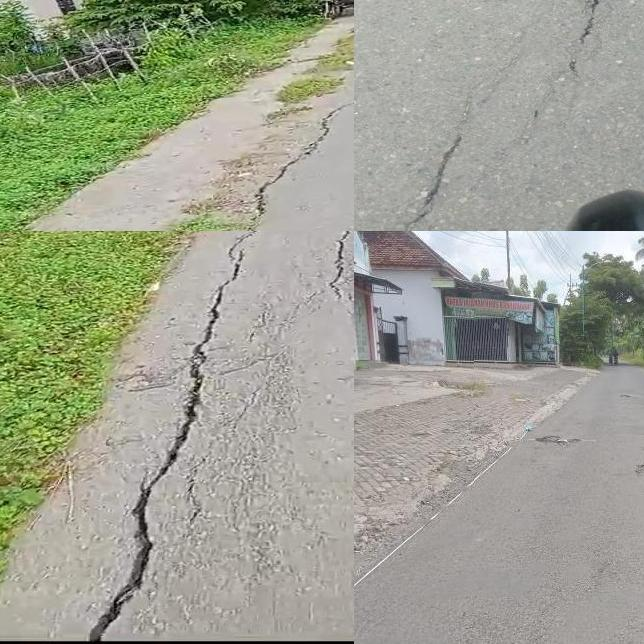Memanjang: (65, 231, 277, 644), (241, 94, 354, 231), (318, 231, 354, 342), (563, 0, 618, 70)
